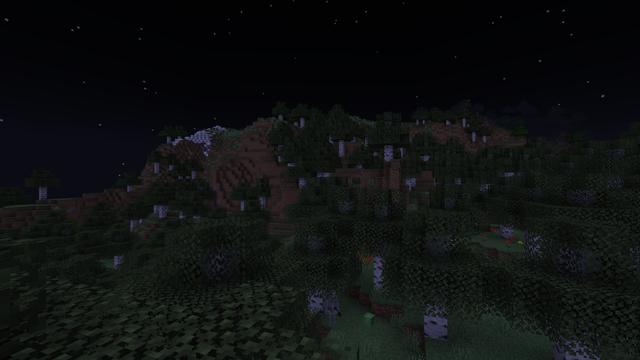slimes: (364, 312, 374, 326)
squelettes: (325, 300, 337, 329)
